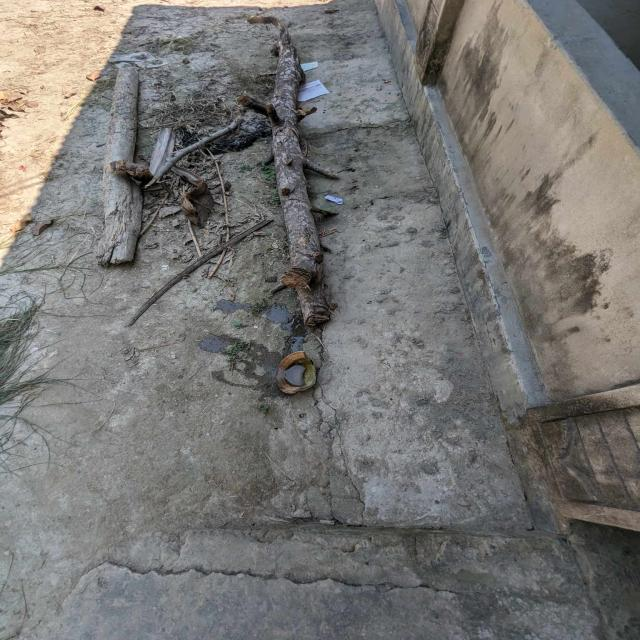Breeding Place: (197, 286, 343, 414), (142, 87, 274, 221), (248, 338, 338, 408)
